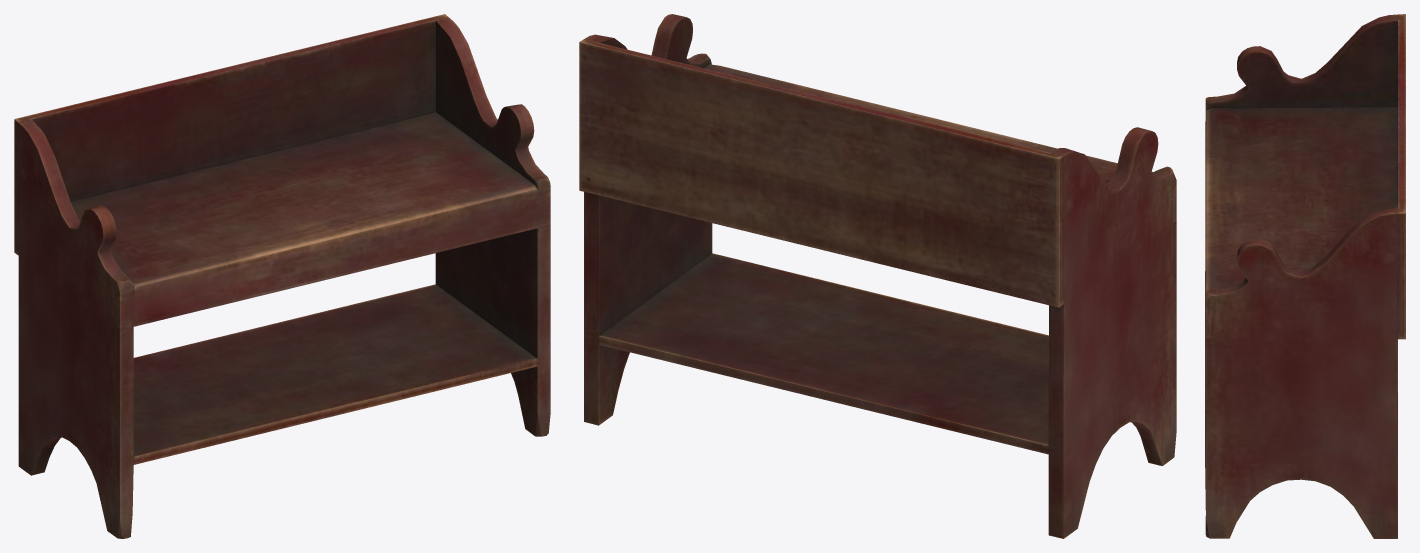
Rendered from outdoor_bench.glb.
3 views of the same model, side by side, from view 1: azimuth 30°, elevation 25°; view 2: azimuth 150°, elevation 25°; view 3: azimuth 270°, elevation 25° (orthographic). The views are drawn at different scales.
Parts seen in each view (by area): view 1: painted_wooden_bench; view 2: painted_wooden_bench; view 3: painted_wooden_bench.
Boxes of the visible parts, box(x1,y1,x2,y2) form: painted_wooden_bench: box(14, 14, 550, 538); painted_wooden_bench: box(579, 14, 1176, 538); painted_wooden_bench: box(1205, 14, 1405, 538).
Bounding box in the file's own units: 1.16 × 0.8893 × 0.4965.
1 material, 1 textured.
